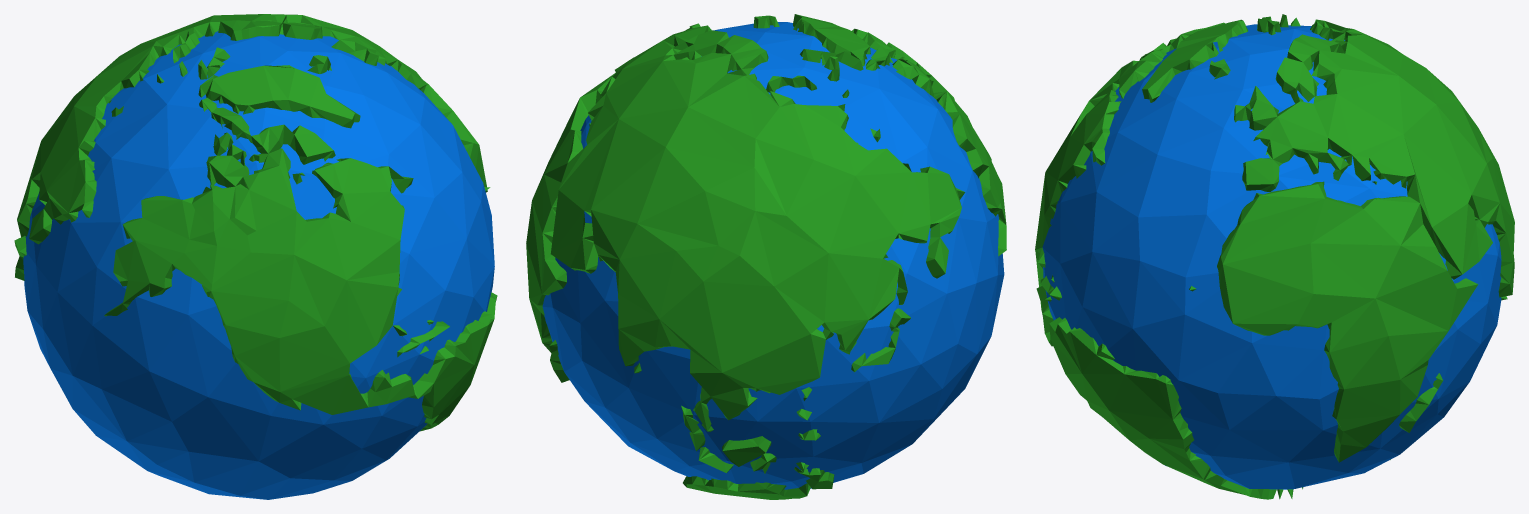
Rendered from earth.gltf.
The picture shows the model from 3 angles, left to right: view 1: azimuth 30°, elevation 25°; view 2: azimuth 150°, elevation 25°; view 3: azimuth 270°, elevation 25°; orthographic projection.
Visible parts, largest first — view 1: low_poly_earth; view 2: low_poly_earth; view 3: low_poly_earth.
Boxes of the visible parts, x1,y1,x2,y2 form: low_poly_earth: [14, 14, 497, 499]; low_poly_earth: [526, 14, 1006, 499]; low_poly_earth: [1035, 14, 1514, 499].
Bounding box in the file's own units: 1.95 × 2.01 × 1.99.
